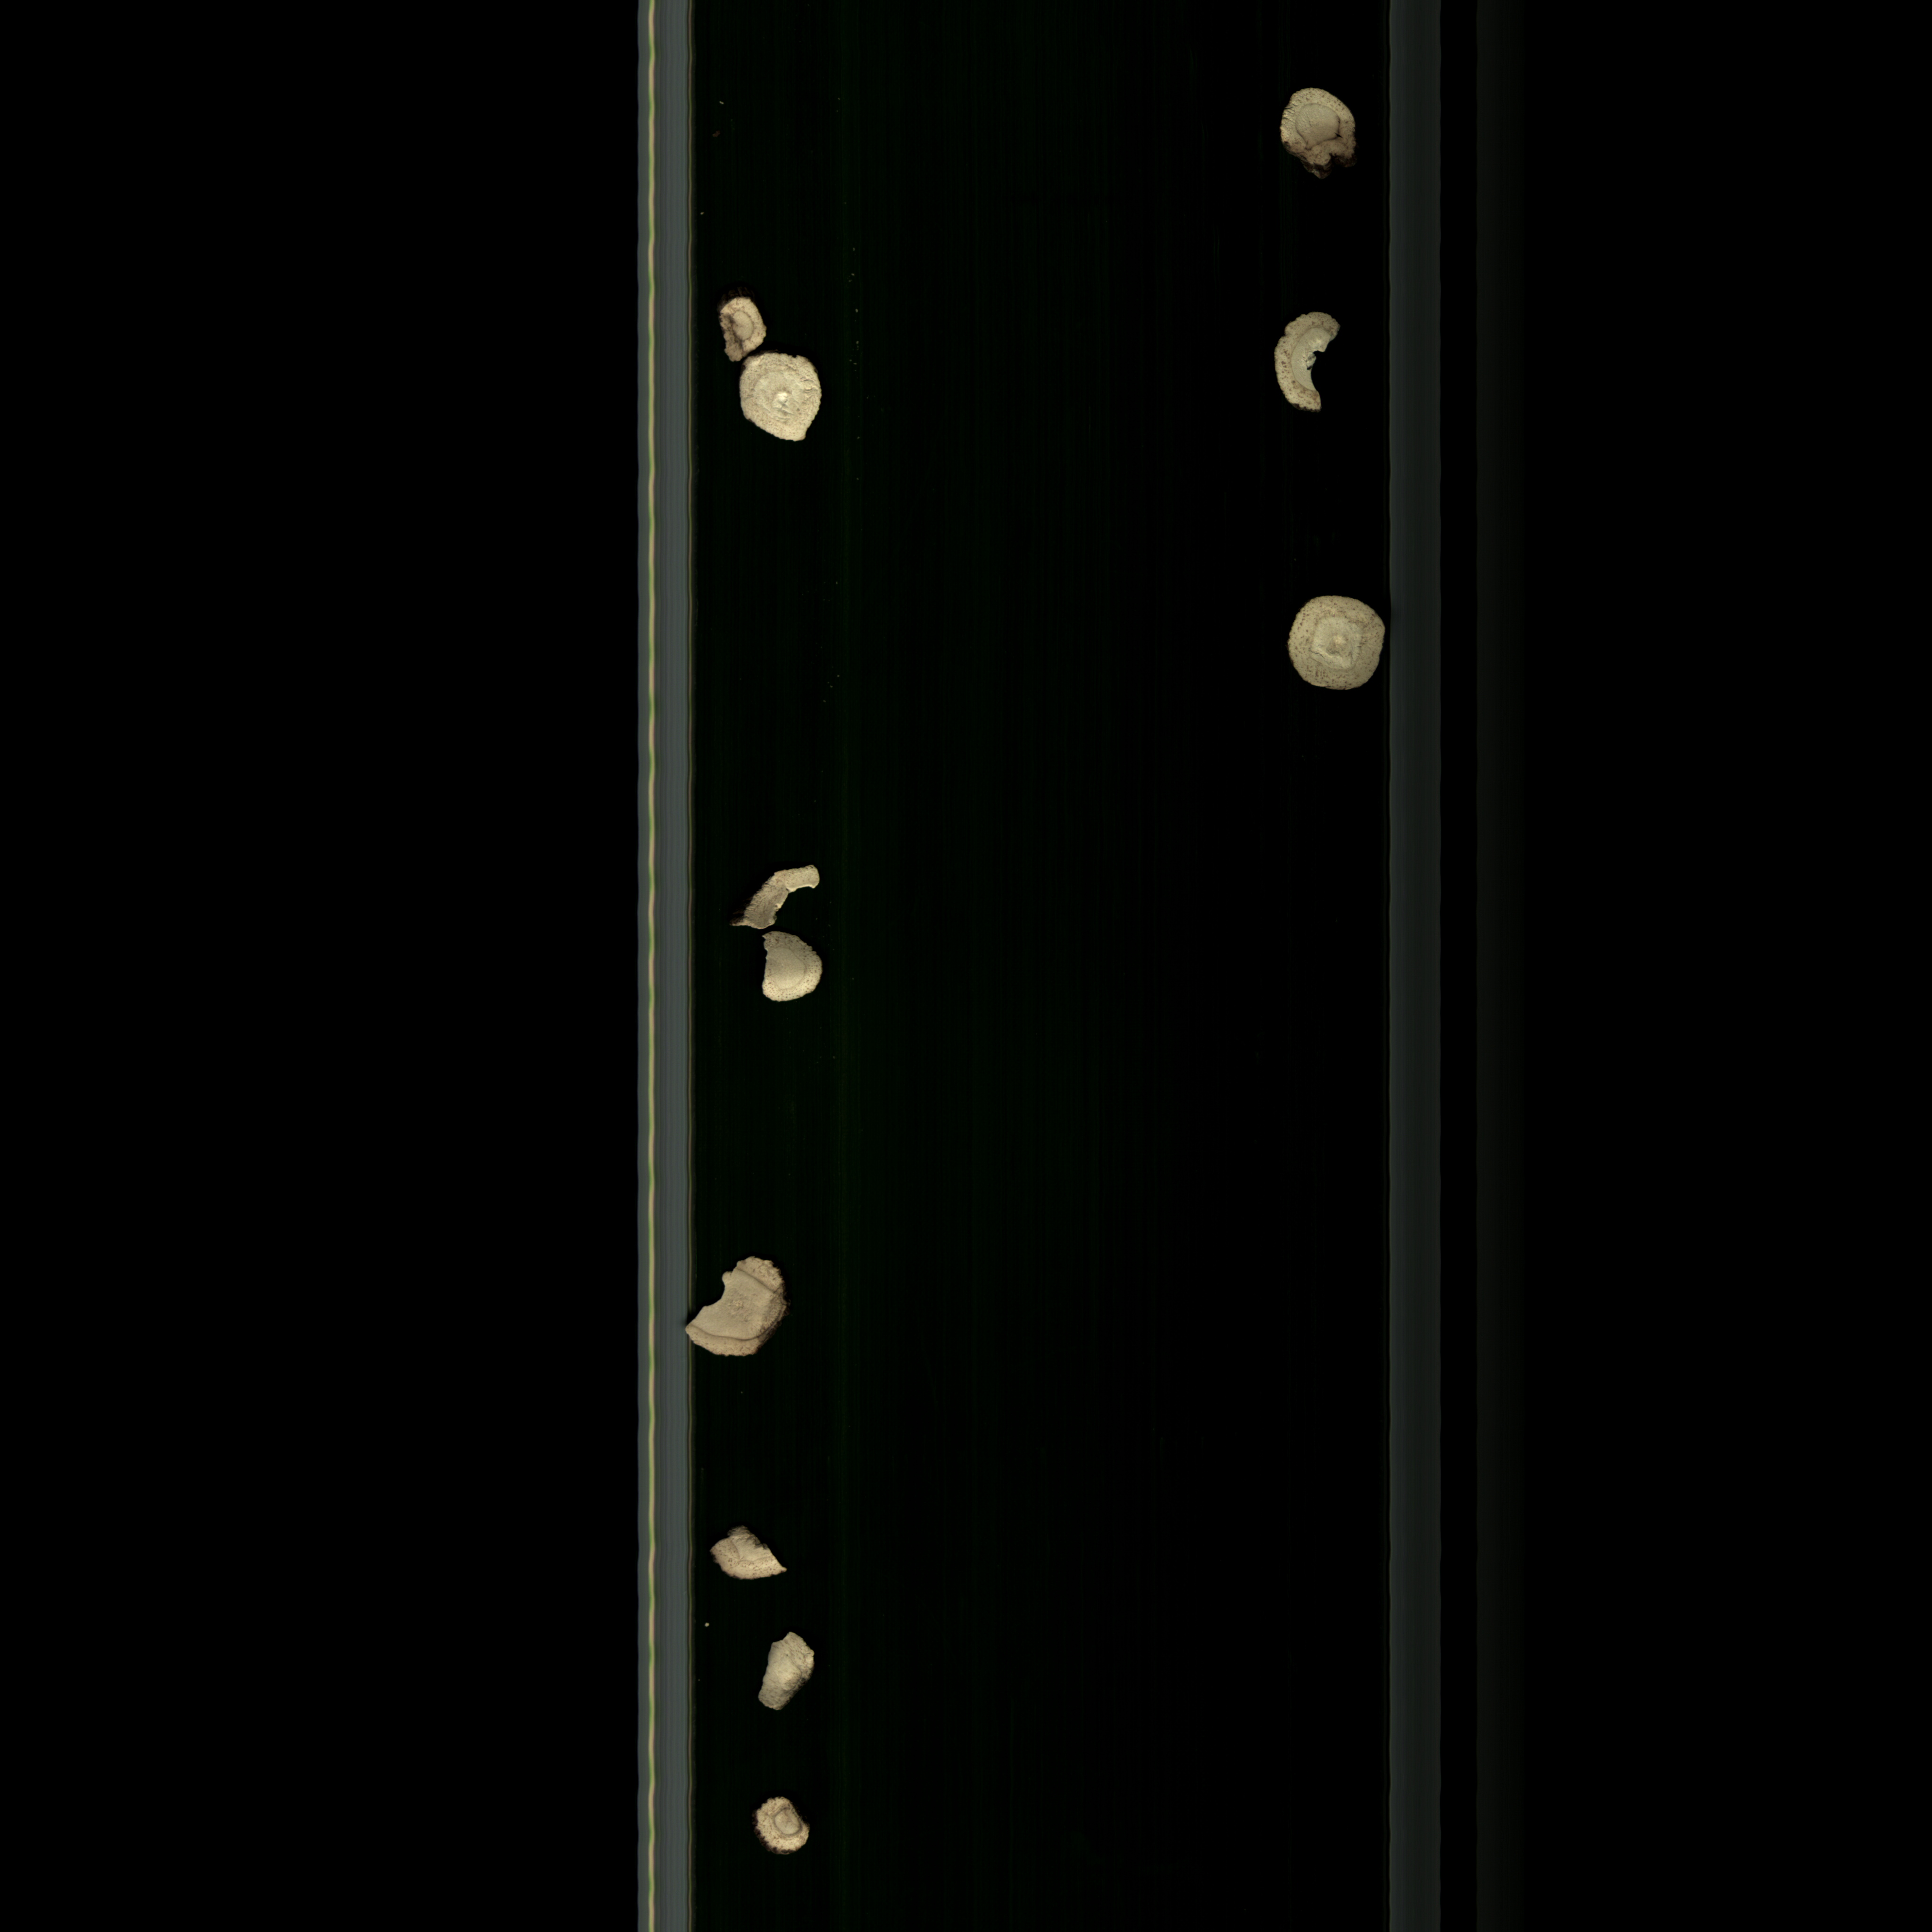debris: (674, 1256, 800, 1366), (1261, 303, 1352, 425), (736, 347, 832, 453), (747, 929, 842, 1014), (713, 287, 773, 363), (750, 1794, 821, 1856)
distortion: (1272, 81, 1361, 180)
dreg: (694, 1516, 805, 1592), (722, 858, 828, 938), (745, 1628, 830, 1720), (699, 1614, 715, 1633)
